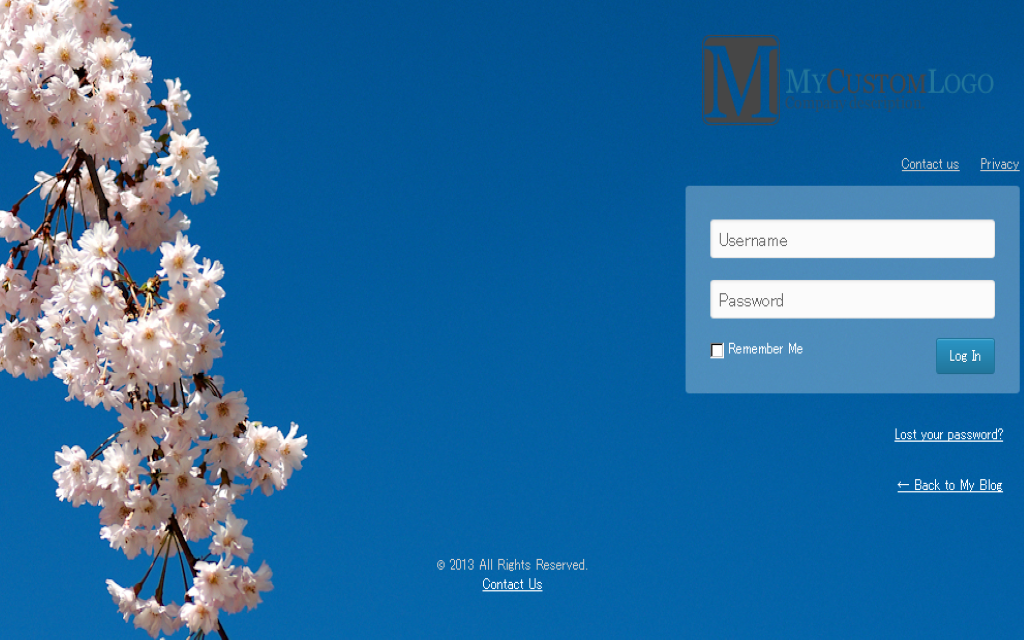button: (936, 339, 995, 375)
button_login: (935, 340, 997, 376)
checkbox: (710, 343, 727, 359)
checkbox_remember: (705, 338, 807, 362)
label_Login: (946, 347, 984, 366)
label_Username: (717, 230, 789, 251)
label_password: (717, 290, 786, 310)
label_remember: (728, 340, 805, 358)
textbox: (712, 279, 995, 318), (709, 221, 996, 259)
textbox_Password: (709, 277, 993, 317)
textbox_username: (707, 221, 998, 260)
url: (893, 426, 1003, 445), (896, 474, 1006, 493), (480, 575, 548, 594)
